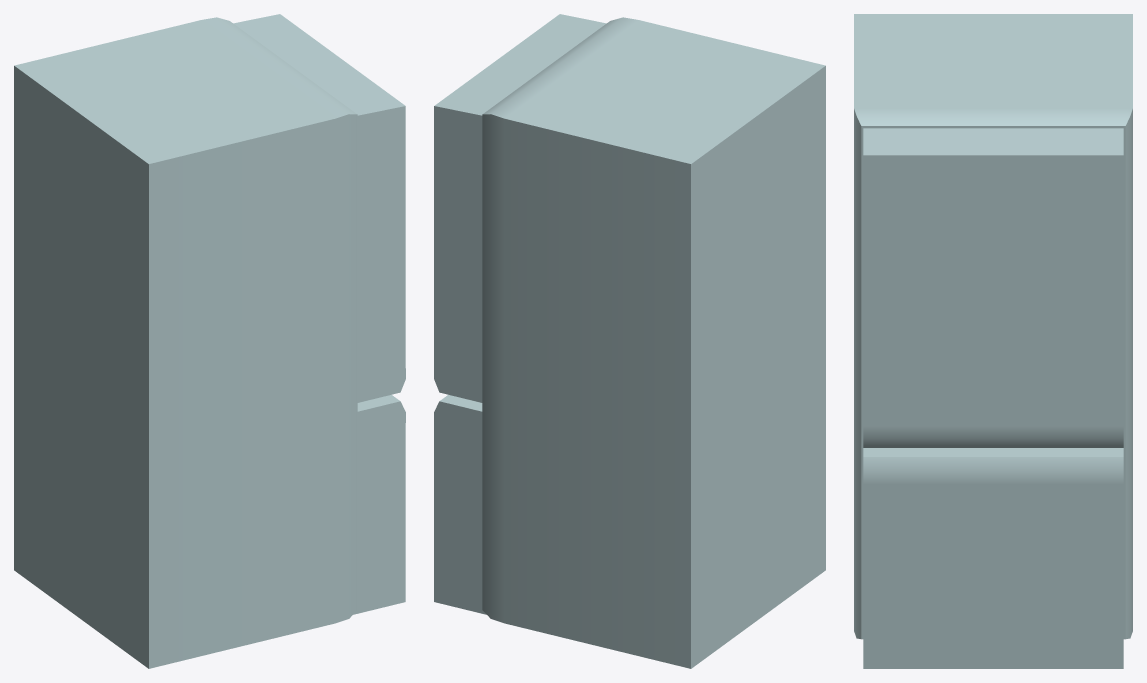
The model's file is fridge.FBX.
3 views of the same model, side by side, from view 1: azimuth 30°, elevation 25°; view 2: azimuth 150°, elevation 25°; view 3: azimuth 270°, elevation 25° (orthographic). The views are drawn at different scales.
Visible parts, largest first — view 1: Object002; view 2: Object002; view 3: Object002.
Boxes of the visible parts, <box> form: Object002: <box>14,14,405,668</box>; Object002: <box>434,14,825,668</box>; Object002: <box>854,14,1132,668</box>.
Bounding box in the file's own units: 479 × 884 × 427.
